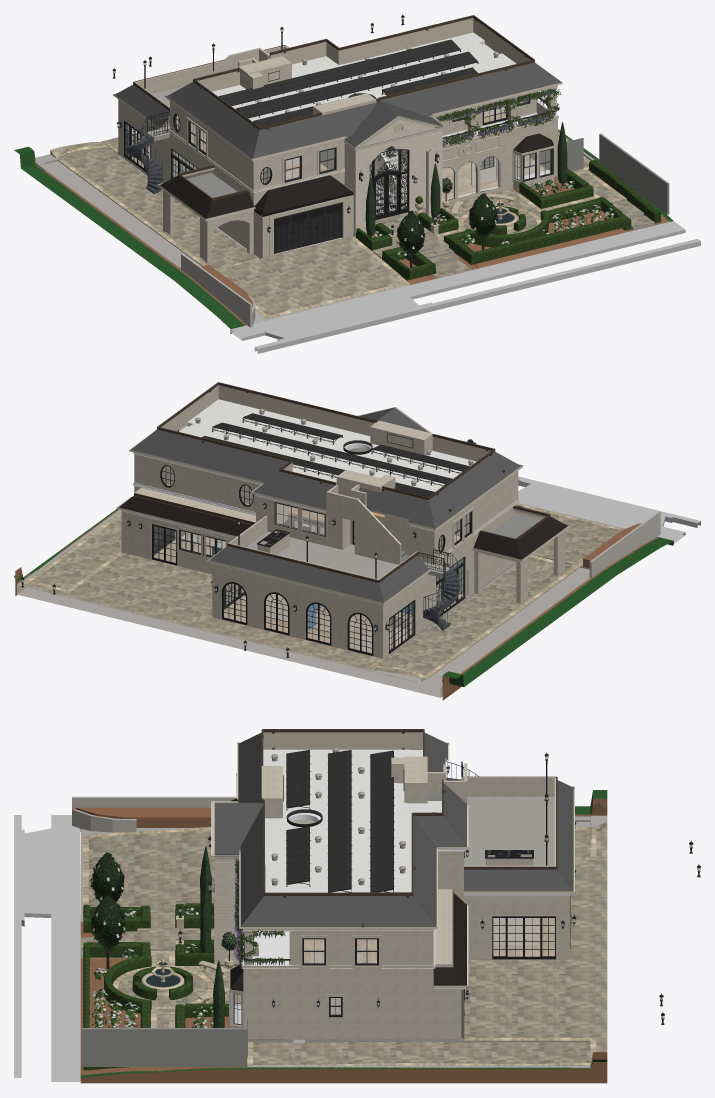
Rendered from exterior-house-10acbc707f97.glb.
The picture shows the model from 3 angles, top to bottom: view 1: azimuth 30°, elevation 25°; view 2: azimuth 150°, elevation 25°; view 3: azimuth 270°, elevation 25°; orthographic projection. The views are drawn at different scales.
Parts seen in each view (by area): view 1: exterior-house-2097c6bf0b01330b, exterior-house-b5dfe7249a3eb059, exterior-house-e7e6fa835f441169, exterior-house-27d577fbd7f2ff4b, exterior-house-aee2d046b0172b1e, exterior-house-772a07b3069847f0, exterior-house-e33d7b378dc851e2, exterior-house-d56ee2a9d54b1fc2, exterior-house-8ae50a6395ceb8a4, exterior-house-0b9d5d1cd0b2c60f, exterior-house-7cf8e5cfa8b264af, exterior-house-25c3ff3929e46046 (+47 smaller); view 2: exterior-house-37d1b262fca80116, exterior-house-8ae50a6395ceb8a4, exterior-house-d56ee2a9d54b1fc2, exterior-house-27d577fbd7f2ff4b, exterior-house-969b861f9850351e, exterior-house-aee2d046b0172b1e, exterior-house-c91f911e25c8cae7, exterior-house-5febae1537653d02, exterior-house-b5dfe7249a3eb059, exterior-house-3763e2fb8578d282, exterior-house-2c1fd33d433632d0, exterior-house-0cae3eb2f2d52fad (+40 smaller); view 3: exterior-house-37d1b262fca80116, exterior-house-aee2d046b0172b1e, exterior-house-b5dfe7249a3eb059, exterior-house-d56ee2a9d54b1fc2, exterior-house-2097c6bf0b01330b, exterior-house-2c1fd33d433632d0, exterior-house-07f5bde4319b7ab4, exterior-house-e7e6fa835f441169, exterior-house-a75a0c9c223328ee, exterior-house-ded88bd99590d377, exterior-house-af97eba351c411ae, exterior-house-e706aa16b4547c37 (+54 smaller).
Boxes of the visible parts, x1,y1,x2,y2 form: exterior-house-2097c6bf0b01330b: [216, 236, 409, 318]; exterior-house-b5dfe7249a3eb059: [230, 221, 685, 340]; exterior-house-e7e6fa835f441169: [356, 182, 625, 280]; exterior-house-27d577fbd7f2ff4b: [57, 147, 260, 269]; exterior-house-aee2d046b0172b1e: [14, 129, 673, 333]; exterior-house-772a07b3069847f0: [254, 238, 700, 353]; exterior-house-e33d7b378dc851e2: [380, 62, 560, 115]; exterior-house-d56ee2a9d54b1fc2: [212, 32, 516, 121]; exterior-house-8ae50a6395ceb8a4: [35, 132, 594, 323]; exterior-house-0b9d5d1cd0b2c60f: [236, 51, 478, 118]; exterior-house-7cf8e5cfa8b264af: [218, 39, 461, 105]; exterior-house-25c3ff3929e46046: [253, 101, 377, 158]; exterior-house-37d1b262fca80116: [20, 552, 427, 683]; exterior-house-8ae50a6395ceb8a4: [17, 503, 624, 697]; exterior-house-d56ee2a9d54b1fc2: [181, 399, 476, 491]; exterior-house-27d577fbd7f2ff4b: [377, 555, 580, 677]; exterior-house-969b861f9850351e: [212, 566, 380, 657]; exterior-house-aee2d046b0172b1e: [14, 509, 673, 700]; exterior-house-c91f911e25c8cae7: [131, 429, 288, 482]; exterior-house-5febae1537653d02: [209, 546, 383, 602]; exterior-house-b5dfe7249a3eb059: [518, 484, 685, 543]; exterior-house-3763e2fb8578d282: [134, 454, 259, 512]; exterior-house-2c1fd33d433632d0: [28, 512, 121, 589]; exterior-house-0cae3eb2f2d52fad: [428, 451, 520, 528]; exterior-house-37d1b262fca80116: [464, 822, 607, 1064]; exterior-house-aee2d046b0172b1e: [80, 790, 607, 1083]; exterior-house-b5dfe7249a3eb059: [24, 815, 81, 1081]; exterior-house-d56ee2a9d54b1fc2: [263, 749, 441, 892]; exterior-house-2097c6bf0b01330b: [83, 828, 214, 921]; exterior-house-2c1fd33d433632d0: [247, 1041, 590, 1065]; exterior-house-07f5bde4319b7ab4: [81, 1028, 247, 1066]; exterior-house-e7e6fa835f441169: [83, 903, 228, 1027]; exterior-house-a75a0c9c223328ee: [241, 896, 436, 926]; exterior-house-ded88bd99590d377: [464, 796, 554, 865]; exterior-house-af97eba351c411ae: [372, 979, 461, 1038]; exterior-house-e706aa16b4547c37: [464, 897, 567, 959].
Bounding box in the file's own units: 31.9 × 8.68 × 35.2.
Materials: 108 (31 with a texture image).
